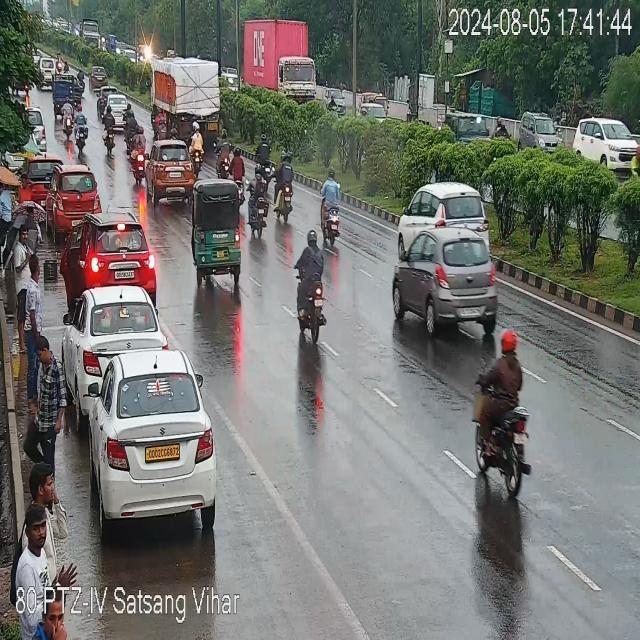2-wheelers: (470, 336, 534, 494), (290, 228, 329, 342), (319, 169, 350, 245), (244, 168, 265, 240), (276, 152, 294, 224), (100, 106, 118, 156), (255, 136, 273, 186), (53, 74, 77, 110), (74, 104, 90, 154), (132, 130, 146, 187), (190, 124, 206, 172), (216, 128, 230, 176), (233, 148, 246, 198), (64, 96, 72, 140)
auto: (188, 177, 245, 283)
car: (88, 348, 216, 526), (388, 226, 501, 331), (66, 285, 160, 390), (71, 214, 158, 284), (396, 181, 494, 232), (574, 120, 640, 168), (46, 170, 98, 230), (150, 141, 196, 203), (442, 106, 492, 158), (520, 111, 566, 160), (108, 94, 132, 122), (36, 58, 56, 88), (90, 65, 108, 91)
pedestrian: (20, 468, 70, 634), (30, 330, 64, 472), (12, 222, 31, 379), (26, 249, 46, 357)
truck: (238, 17, 320, 106), (157, 58, 225, 128), (78, 12, 100, 46)
